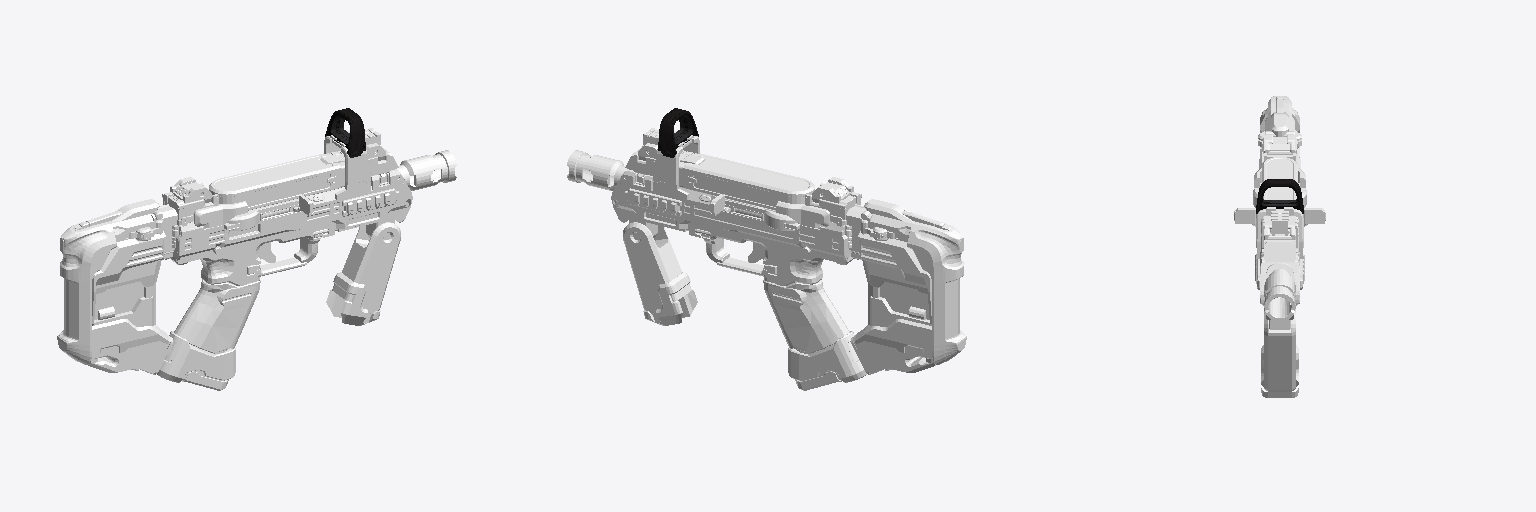
3 renders of one model, left to right at view 1: azimuth 30°, elevation 25°; view 2: azimuth 150°, elevation 25°; view 3: azimuth 270°, elevation 25°, orthographic.
Visible parts, largest first — view 1: smg.003; view 2: smg.003; view 3: smg.003.
Boxes of the visible parts, x1=… form: smg.003: x1=57, y1=108, x2=456, y2=390; smg.003: x1=567, y1=108, x2=966, y2=390; smg.003: x1=1234, y1=96, x2=1325, y2=397.
Size of the model in its own units: 0.4636 by 0.274 by 0.0945.
2 materials, 1 textured.